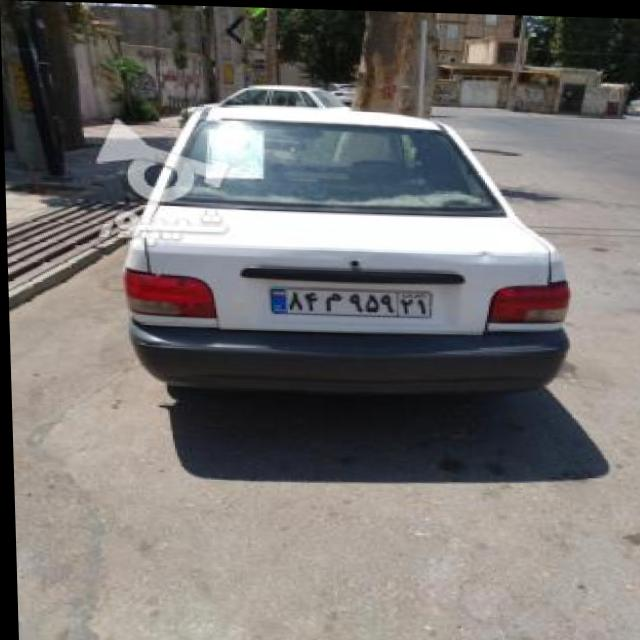licence: (257, 281, 436, 319)
